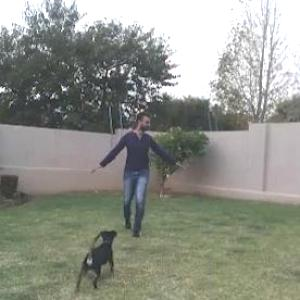land: (72, 111, 186, 237)
